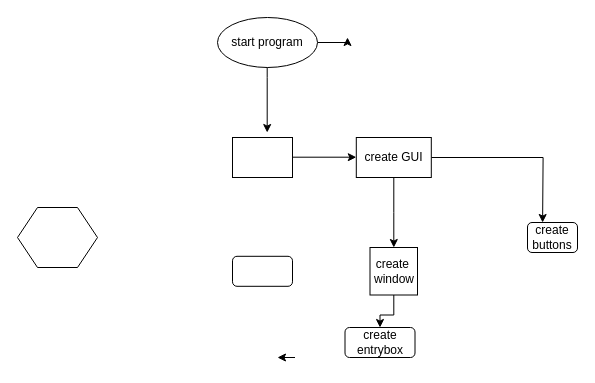
The diagram is 595 pixels wide and 383 high, and some of its shapes have lost their labels. The shapes that lost their labels are listed below. From the top down, each one's centre as x and y in pixels, then its label:
At (262,157): "import module".
At (57,237): "scrollbar".
At (262,270): "create".
